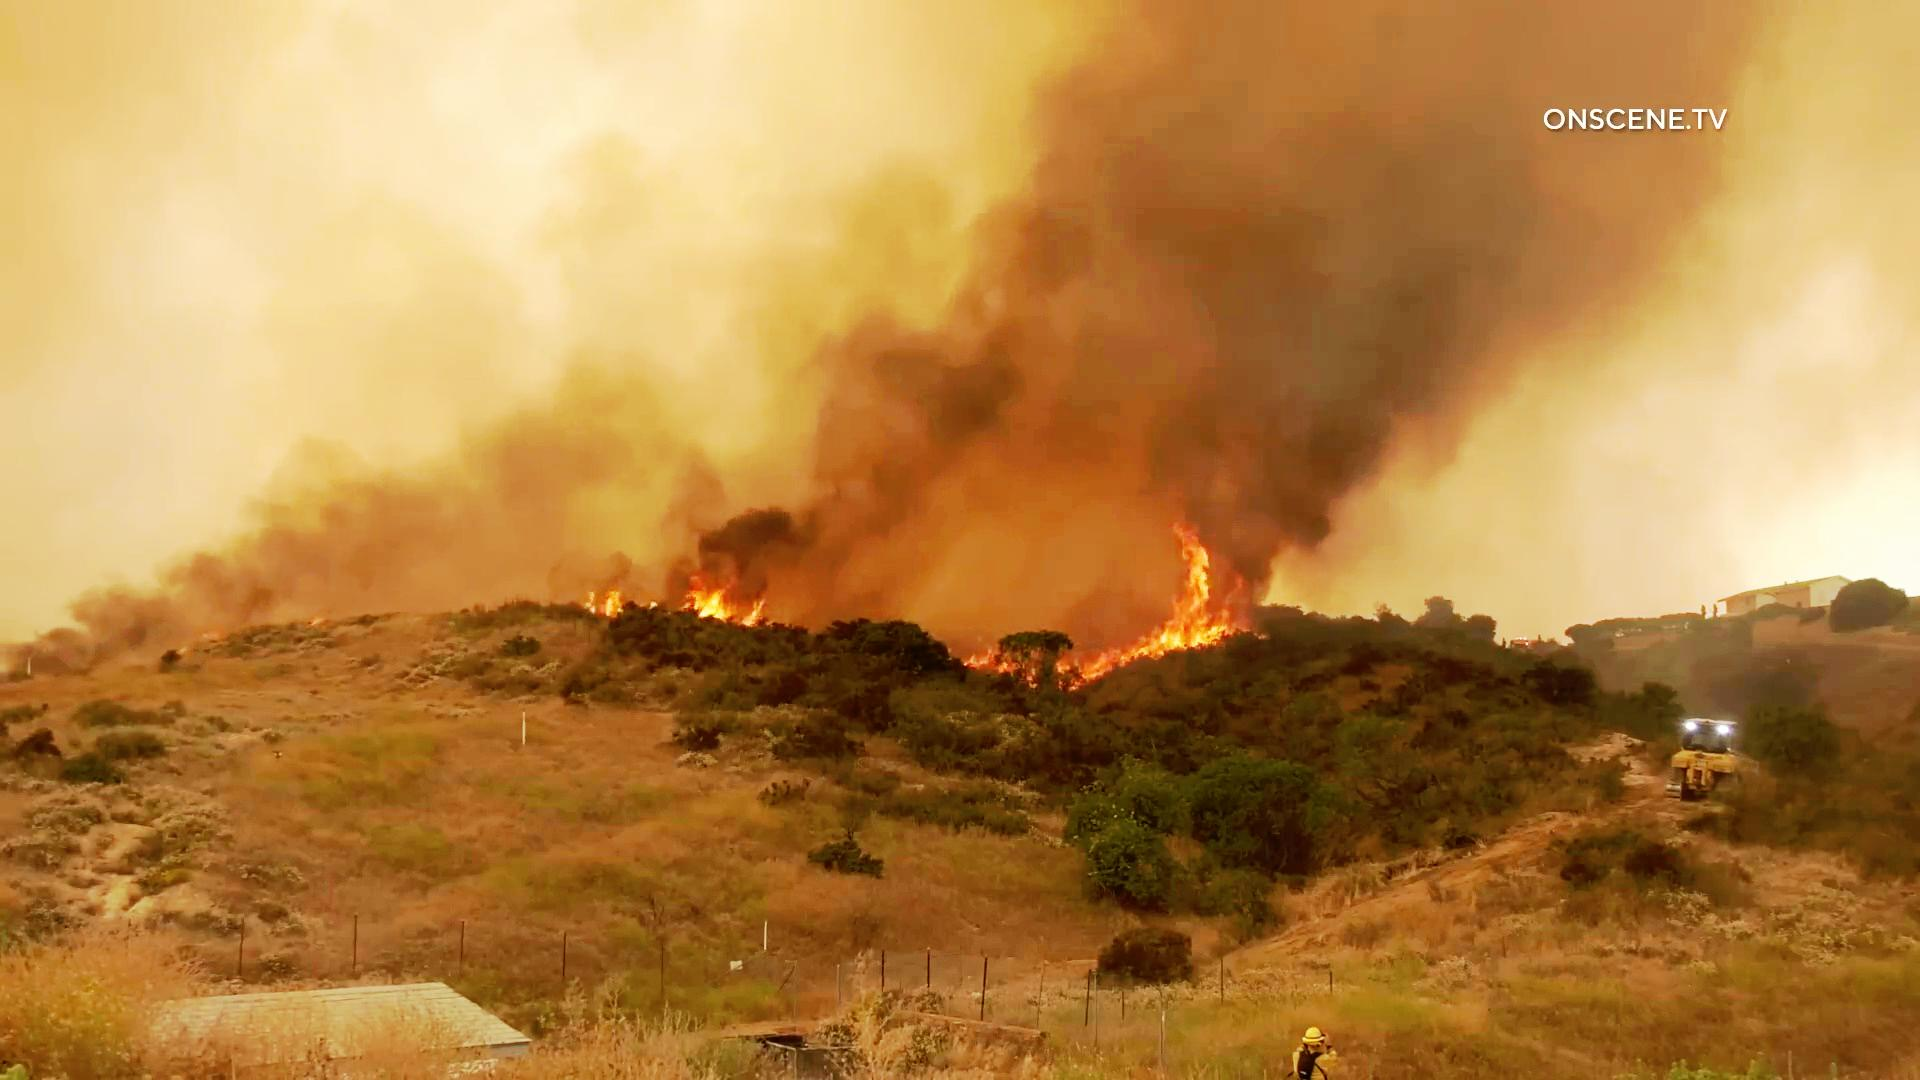fire: (1143, 524, 1237, 666), (680, 574, 765, 646)
smoke: (1071, 95, 1365, 526), (745, 233, 961, 580)
